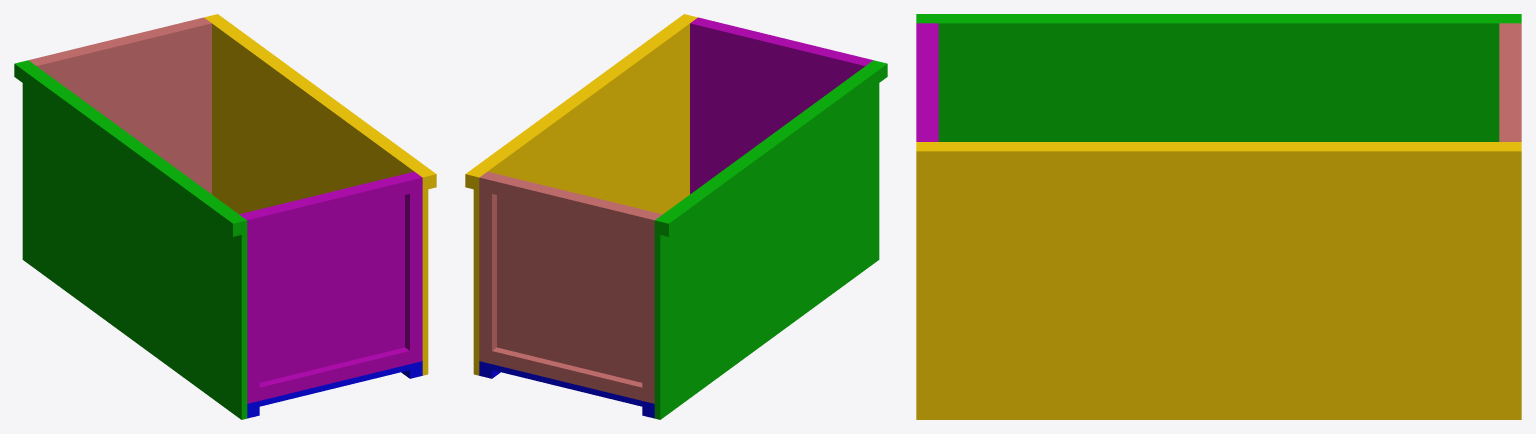
File: result.glb
3 renders of one model, left to right at view 1: azimuth 30°, elevation 25°; view 2: azimuth 150°, elevation 25°; view 3: azimuth 270°, elevation 25°, orthographic. The views are drawn at different scales.
Visible parts, largest first — view 1: 5ef683a9-dfd4-4e0c-bff5-eae5b7a7cab2__Box_6, ac5ea983-1ad6-453f-b524-a9f927bf0eba__Box_3, 24d87e4c-3e24-4cb8-8ab7-5ed4a4dc16fb__undefined, 1dd71d5b-b1f0-4ca1-b309-8e589e35d2f4__undefined, 84aa7dcc-b851-4a06-a8f3-5f50cfeb1f08__Box_7, 94001a27-7cf1-47e2-ad50-fc3b694bff6e__undefined, 631973af-6865-4281-82cc-27adb4381667__undefined, b3683158-0e68-493f-9db2-ce19aa82a358__Box_5, 322d25f9-845e-4d58-8e15-05c822cf8ac8__Box_4, ca4a41e8-2714-47c6-8bef-ac6f4b12feb8__undefined, 2c3a4d6f-1f72-4cd9-9548-7aaf395f4644__Box, 65a227d3-20a0-4924-80cb-f68bc6af7bc0__undefined; view 2: 5ef683a9-dfd4-4e0c-bff5-eae5b7a7cab2__Box_6, 1dd71d5b-b1f0-4ca1-b309-8e589e35d2f4__undefined, 24d87e4c-3e24-4cb8-8ab7-5ed4a4dc16fb__undefined, ac5ea983-1ad6-453f-b524-a9f927bf0eba__Box_3, 84aa7dcc-b851-4a06-a8f3-5f50cfeb1f08__Box_7, e5df1584-7bc0-4819-9f3c-2c0a49fdf185__undefined, 65a227d3-20a0-4924-80cb-f68bc6af7bc0__undefined, cc807649-74b5-4628-ad9a-82c880a7f434__undefined, be14eaf8-474c-4bce-8646-3b1c5c6c3997__undefined, ca4a41e8-2714-47c6-8bef-ac6f4b12feb8__undefined, 2c3a4d6f-1f72-4cd9-9548-7aaf395f4644__Box, 631973af-6865-4281-82cc-27adb4381667__undefined; view 3: 24d87e4c-3e24-4cb8-8ab7-5ed4a4dc16fb__undefined, 5ef683a9-dfd4-4e0c-bff5-eae5b7a7cab2__Box_6, ca4a41e8-2714-47c6-8bef-ac6f4b12feb8__undefined, 84aa7dcc-b851-4a06-a8f3-5f50cfeb1f08__Box_7, 631973af-6865-4281-82cc-27adb4381667__undefined, 65a227d3-20a0-4924-80cb-f68bc6af7bc0__undefined, ac5ea983-1ad6-453f-b524-a9f927bf0eba__Box_3, 1dd71d5b-b1f0-4ca1-b309-8e589e35d2f4__undefined.
Part boxes in pixels (x1=…): 5ef683a9-dfd4-4e0c-bff5-eae5b7a7cab2__Box_6: x1=22, y1=60, x2=247, y2=419; ac5ea983-1ad6-453f-b524-a9f927bf0eba__Box_3: x1=239, y1=171, x2=417, y2=382; 24d87e4c-3e24-4cb8-8ab7-5ed4a4dc16fb__undefined: x1=204, y1=16, x2=428, y2=375; 1dd71d5b-b1f0-4ca1-b309-8e589e35d2f4__undefined: x1=33, y1=21, x2=211, y2=194; 84aa7dcc-b851-4a06-a8f3-5f50cfeb1f08__Box_7: x1=14, y1=61, x2=241, y2=236; 94001a27-7cf1-47e2-ad50-fc3b694bff6e__undefined: x1=405, y1=174, x2=422, y2=363; 631973af-6865-4281-82cc-27adb4381667__undefined: x1=255, y1=177, x2=409, y2=230; b3683158-0e68-493f-9db2-ce19aa82a358__Box_5: x1=259, y1=347, x2=409, y2=400; 322d25f9-845e-4d58-8e15-05c822cf8ac8__Box_4: x1=242, y1=213, x2=259, y2=403; ca4a41e8-2714-47c6-8bef-ac6f4b12feb8__undefined: x1=210, y1=14, x2=436, y2=189; 2c3a4d6f-1f72-4cd9-9548-7aaf395f4644__Box: x1=247, y1=361, x2=422, y2=409; 65a227d3-20a0-4924-80cb-f68bc6af7bc0__undefined: x1=41, y1=20, x2=195, y2=60; 5ef683a9-dfd4-4e0c-bff5-eae5b7a7cab2__Box_6: x1=654, y1=60, x2=879, y2=419; 1dd71d5b-b1f0-4ca1-b309-8e589e35d2f4__undefined: x1=484, y1=171, x2=662, y2=382; 24d87e4c-3e24-4cb8-8ab7-5ed4a4dc16fb__undefined: x1=473, y1=16, x2=697, y2=375; ac5ea983-1ad6-453f-b524-a9f927bf0eba__Box_3: x1=690, y1=21, x2=868, y2=194; 84aa7dcc-b851-4a06-a8f3-5f50cfeb1f08__Box_7: x1=660, y1=61, x2=887, y2=236; e5df1584-7bc0-4819-9f3c-2c0a49fdf185__undefined: x1=479, y1=174, x2=496, y2=363; 65a227d3-20a0-4924-80cb-f68bc6af7bc0__undefined: x1=492, y1=177, x2=646, y2=230; cc807649-74b5-4628-ad9a-82c880a7f434__undefined: x1=492, y1=347, x2=642, y2=400; be14eaf8-474c-4bce-8646-3b1c5c6c3997__undefined: x1=642, y1=213, x2=659, y2=403; ca4a41e8-2714-47c6-8bef-ac6f4b12feb8__undefined: x1=465, y1=14, x2=691, y2=189; 2c3a4d6f-1f72-4cd9-9548-7aaf395f4644__Box: x1=479, y1=361, x2=654, y2=409; 631973af-6865-4281-82cc-27adb4381667__undefined: x1=706, y1=20, x2=860, y2=60; 24d87e4c-3e24-4cb8-8ab7-5ed4a4dc16fb__undefined: x1=916, y1=142, x2=1521, y2=419; 5ef683a9-dfd4-4e0c-bff5-eae5b7a7cab2__Box_6: x1=916, y1=19, x2=1521, y2=141; ca4a41e8-2714-47c6-8bef-ac6f4b12feb8__undefined: x1=916, y1=145, x2=1521, y2=169; 84aa7dcc-b851-4a06-a8f3-5f50cfeb1f08__Box_7: x1=916, y1=14, x2=1521, y2=19; 631973af-6865-4281-82cc-27adb4381667__undefined: x1=916, y1=32, x2=929, y2=133; 65a227d3-20a0-4924-80cb-f68bc6af7bc0__undefined: x1=1508, y1=32, x2=1521, y2=133; ac5ea983-1ad6-453f-b524-a9f927bf0eba__Box_3: x1=929, y1=23, x2=938, y2=141; 1dd71d5b-b1f0-4ca1-b309-8e589e35d2f4__undefined: x1=1499, y1=23, x2=1508, y2=141.
Bounding box in the file's own units: 580 × 540 × 1080.
